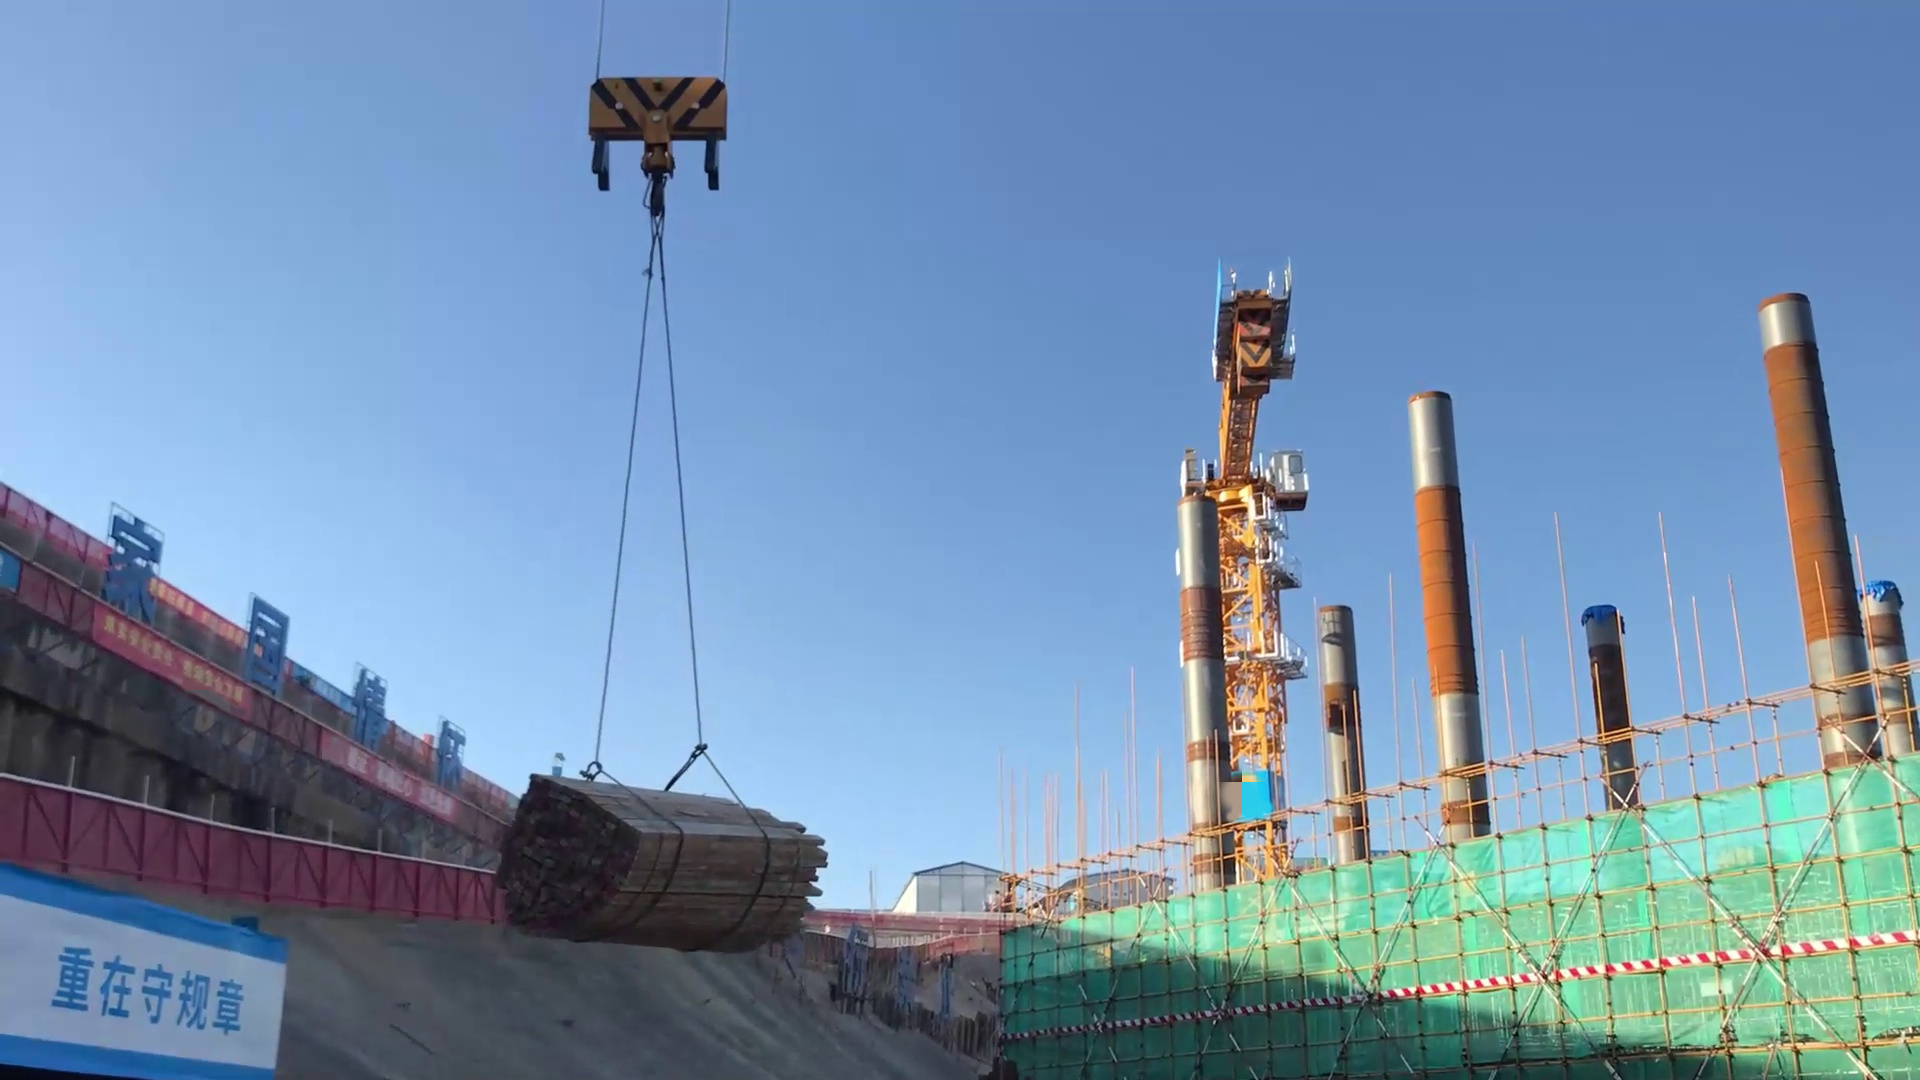fence: (7, 774, 498, 960)
hook: (560, 55, 750, 357)
slogan: (12, 920, 313, 1065), (86, 603, 252, 732), (323, 742, 463, 837), (160, 574, 255, 659)
wood: (500, 775, 836, 959)
